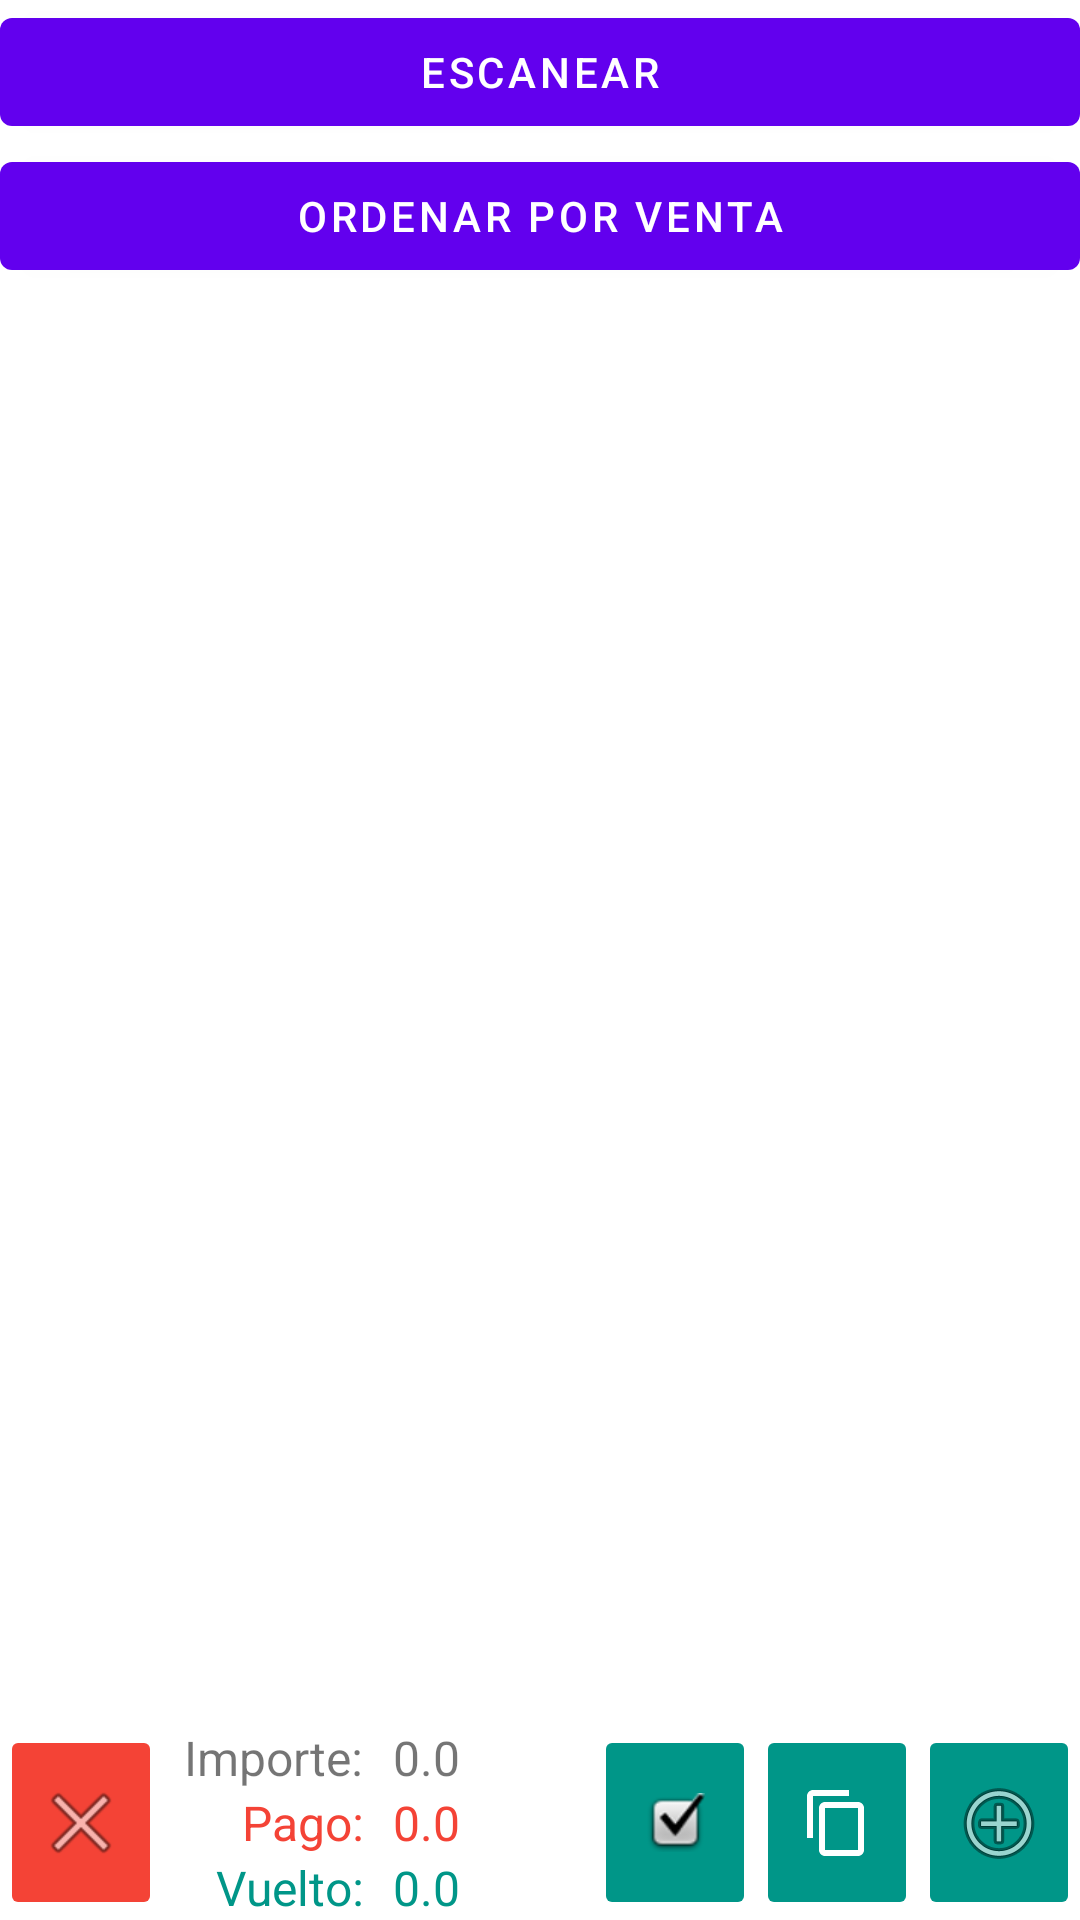

Icon bounding boxes for this 1080px×1920px phone screenshot, format bbox=(x1, y1, x2, y2):
CANCELAR: bbox=(12, 1743, 150, 1902)
